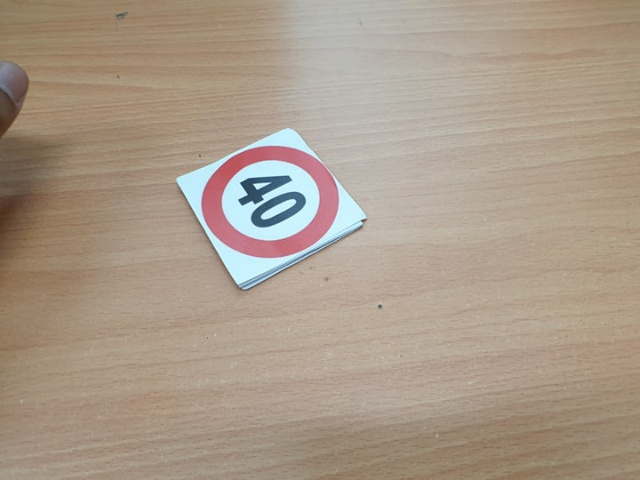Limit 40: (201, 145, 339, 257)
